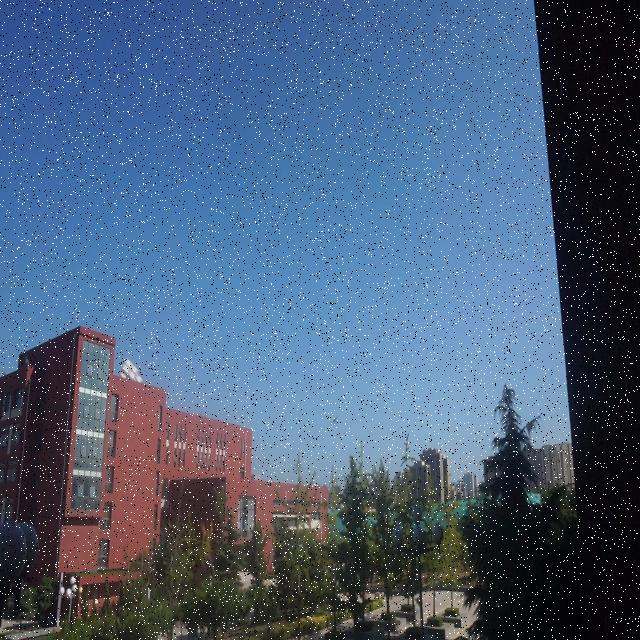UAV: (330, 416, 338, 425)
